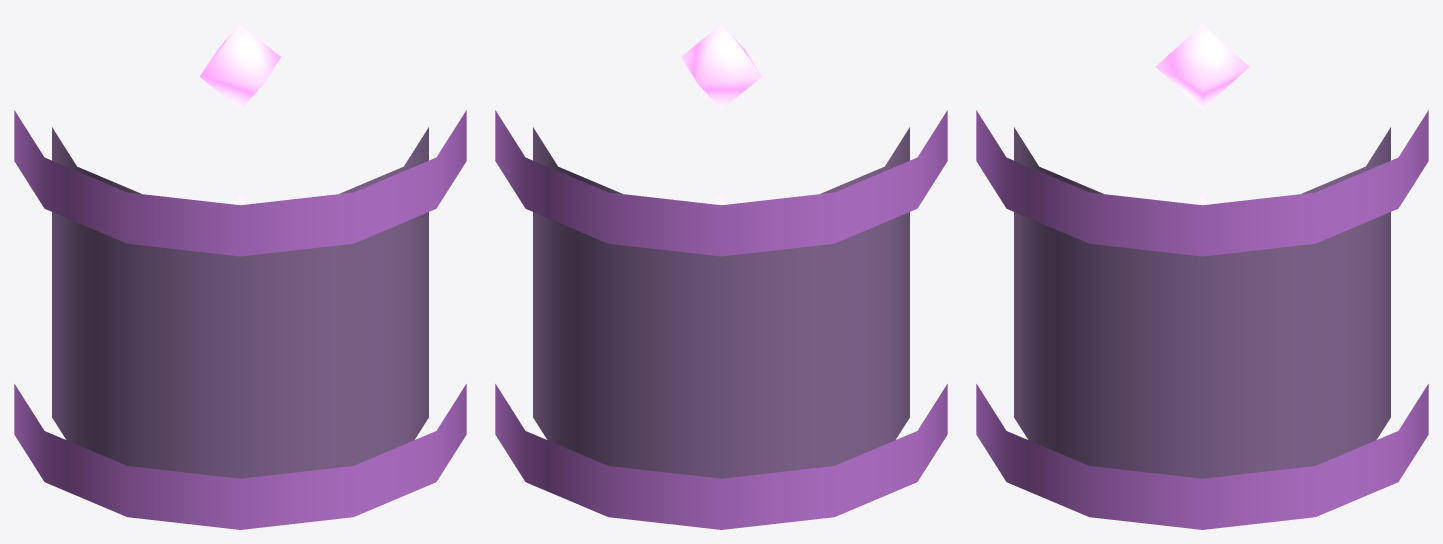
The model's file is bateria_plasma.glb.
The picture shows the model from 3 angles, left to right: view 1: azimuth 30°, elevation 25°; view 2: azimuth 150°, elevation 25°; view 3: azimuth 270°, elevation 25°; orthographic projection.
Visible parts, largest first — view 1: Base, Accent, Glow; view 2: Base, Accent, Glow; view 3: Base, Accent, Glow.
Part boxes in pixels (left/top/right/bottom): Base: left=52, top=127, right=428, bottom=478; Accent: left=14, top=110, right=466, bottom=529; Glow: left=200, top=24, right=280, bottom=205; Base: left=533, top=127, right=909, bottom=478; Accent: left=495, top=110, right=947, bottom=529; Glow: left=681, top=24, right=761, bottom=205; Base: left=1014, top=127, right=1390, bottom=478; Accent: left=976, top=110, right=1428, bottom=529; Glow: left=1155, top=24, right=1249, bottom=205.
Bounding box in the file's own units: 0.48 × 0.48 × 0.48.
